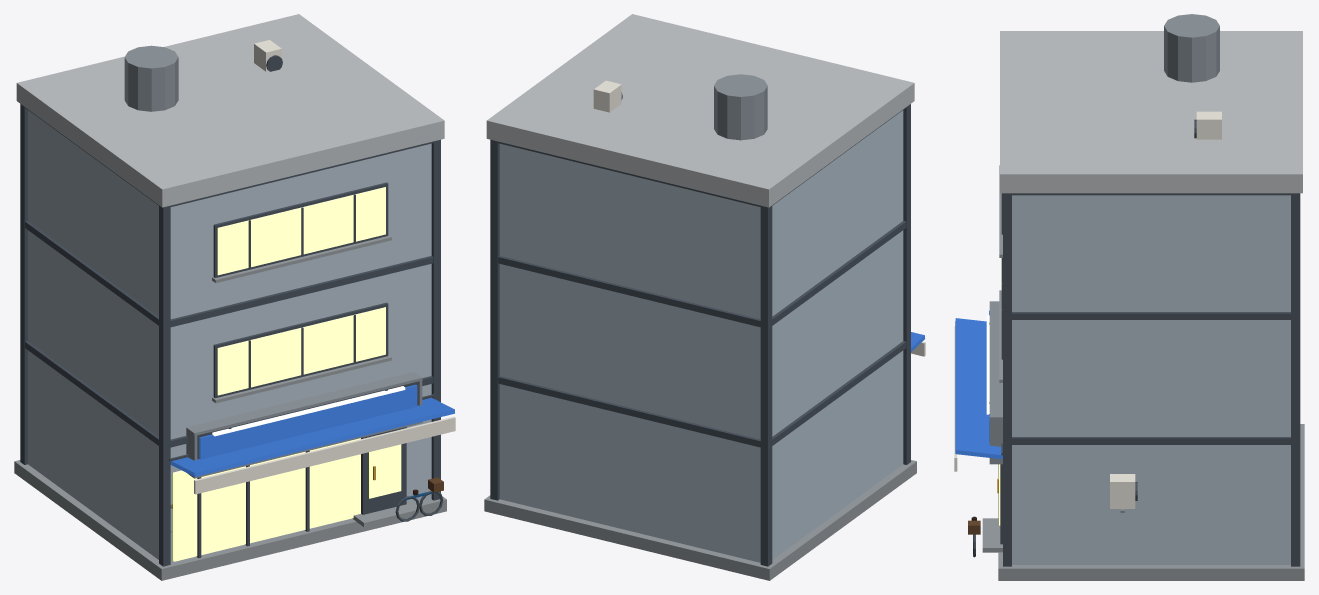
Rendered from shop_bookstore_3f.glb.
3 views of the same model, side by side, from view 1: azimuth 30°, elevation 25°; view 2: azimuth 150°, elevation 25°; view 3: azimuth 270°, elevation 25° (orthographic). The views are drawn at different scales.
Parts seen in each view (by area): view 1: body.019, parapet.011, shop_glass.018, win_glass.039, win_glass.038, base.019, awning.006, sign_face.019, post.076, awning_lip.006, beam.058, water_tank.012 (+14 smaller); view 2: body.019, parapet.011, base.019, post.077, beam.058, beam.057, post.079, water_tank.012, post.076, beam.065, ac_body.032; view 3: body.019, parapet.011, base.019, awning.006, post.079, water_tank.012, post.078, beam.057, beam.058, sign_rim_top.018, ac_body.030, beam.065 (+2 smaller).
Boxes of the visible parts, left/top/right/bottom form: body.019: left=28, top=110, right=431, bottom=562; parapet.011: left=16, top=14, right=444, bottom=207; shop_glass.018: left=173, top=438, right=360, bottom=561; win_glass.039: left=217, top=187, right=385, bottom=275; win_glass.038: left=217, top=307, right=385, bottom=395; base.019: left=14, top=460, right=446, bottom=580; awning.006: left=170, top=397, right=454, bottom=476; sign_face.019: left=199, top=384, right=417, bottom=459; post.076: left=159, top=205, right=170, bottom=566; awning_lip.006: left=194, top=416, right=455, bottom=494; beam.058: left=25, top=221, right=433, bottom=327; water_tank.012: left=124, top=45, right=178, bottom=111; body.019: left=499, top=110, right=903, bottom=562; parapet.011: left=486, top=14, right=914, bottom=207; base.019: left=484, top=460, right=916, bottom=580; post.077: left=760, top=205, right=772, bottom=566; beam.058: left=498, top=221, right=906, bottom=327; beam.057: left=498, top=341, right=906, bottom=447; post.079: left=490, top=139, right=499, bottom=500; water_tank.012: left=714, top=74, right=767, bottom=140; post.076: left=903, top=104, right=910, bottom=464; beam.065: left=498, top=107, right=906, bottom=206; ac_body.032: left=593, top=80, right=621, bottom=112; body.019: left=1012, top=195, right=1290, bottom=564; parapet.011: left=1000, top=31, right=1302, bottom=193; base.019: left=998, top=424, right=1304, bottom=580; awning.006: left=955, top=318, right=1002, bottom=459; post.079: left=1291, top=193, right=1300, bottom=566; water_tank.012: left=1164, top=14, right=1219, bottom=82; post.078: left=1003, top=193, right=1011, bottom=566; beam.057: left=1012, top=437, right=1290, bottom=444; beam.058: left=1012, top=312, right=1290, bottom=319; sign_rim_top.018: left=989, top=301, right=1002, bottom=419; ac_body.030: left=1110, top=474, right=1135, bottom=508; beam.065: left=1012, top=193, right=1290, bottom=195.
Size of the model in its own units: 7.84 by 11.05 by 7.75.
